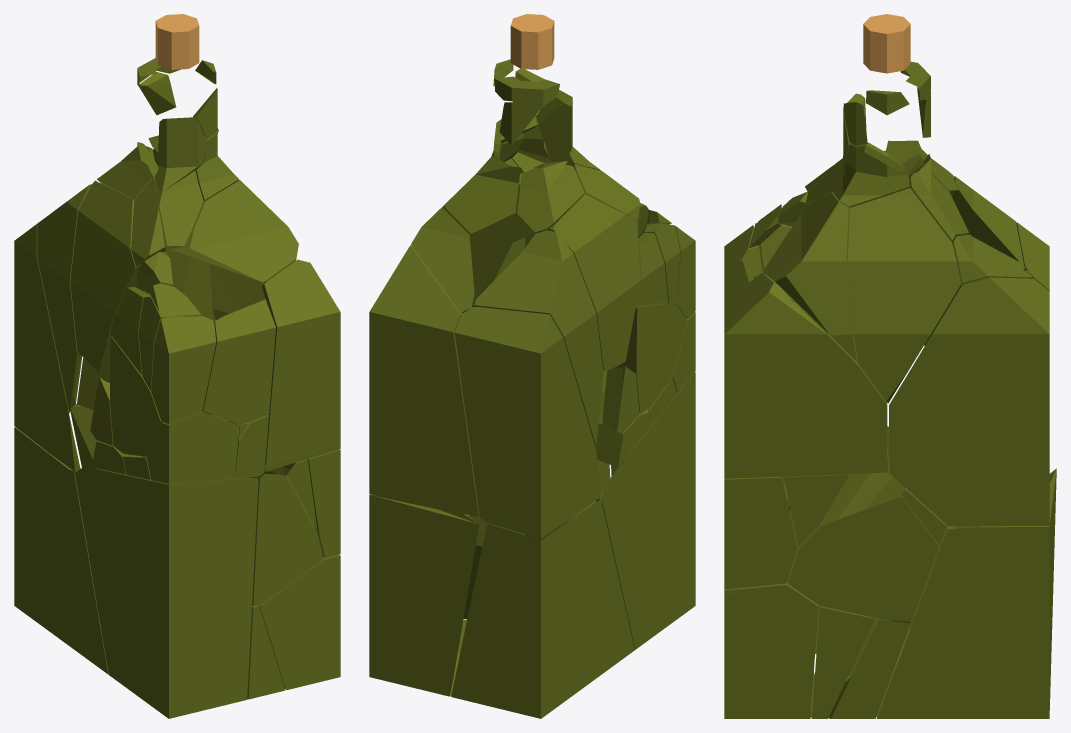
The model's file is bottle-whiskey-pieces.fbx.
The picture shows the model from 3 angles, left to right: view 1: azimuth 30°, elevation 25°; view 2: azimuth 150°, elevation 25°; view 3: azimuth 270°, elevation 25°; orthographic projection. The views are drawn at different scales.
Parts seen in each view (by area): view 1: whiskeybottle_cell.004, whiskeybottle_cell.006, whiskeybottle_cell.003, whiskeybottle_cell.007, whiskeybottle_cell.014, whiskeybottle_cell.002_cell, whiskeybottle_cell.017, whiskeybottle_cell.005_cell.014, whiskeybottle_cell.002_cell.014, whiskeybottle_cell.005_cell, whiskeybottle_cell.011, whiskeybottle_cell.005_cell.007 (+21 smaller); view 2: whiskeybottle_cell.006, whiskeybottle_cell.007, whiskeybottle_cell.001, whiskeybottle_cell, whiskeybottle_cell.004, whiskeybottle_cell.011, whiskeybottle_cell.014, whiskeybottle_cell.005_cell.020, whiskeybottle_cell.008, whiskeybottle_cell.030, whiskeybottle_cell.015, whiskeybottle_cell.021 (+14 smaller); view 3: whiskeybottle_cell.001, whiskeybottle_cell, whiskeybottle_cell.003, whiskeybottle_cell.021, whiskeybottle_cell.002_cell.021, whiskeybottle_cell.002_cell, whiskeybottle_cell.017, whiskeybottle_cell.002_cell.008, whiskeybottle_cell.002_cell.018, whiskeybottle_cell.002_cell.019, whiskeybottle_cell.018, whiskeybottle_cell.011 (+17 smaller).
Boxes of the visible parts, x1=… form: whiskeybottle_cell.004: x1=75, y1=466, x2=258, y2=718; whiskeybottle_cell.006: x1=14, y1=416, x2=108, y2=674; whiskeybottle_cell.003: x1=262, y1=259, x2=340, y2=471; whiskeybottle_cell.007: x1=14, y1=224, x2=82, y2=471; whiskeybottle_cell.014: x1=70, y1=180, x2=164, y2=371; whiskeybottle_cell.002_cell: x1=258, y1=554, x2=340, y2=690; whiskeybottle_cell.017: x1=172, y1=180, x2=298, y2=283; whiskeybottle_cell.005_cell.014: x1=202, y1=299, x2=275, y2=424; whiskeybottle_cell.002_cell.014: x1=248, y1=471, x2=323, y2=606; whiskeybottle_cell.005_cell: x1=151, y1=316, x2=216, y2=423; whiskeybottle_cell.011: x1=37, y1=183, x2=103, y2=413; whiskeybottle_cell.005_cell.007: x1=146, y1=411, x2=237, y2=483; whiskeybottle_cell.006: x1=451, y1=498, x2=634, y2=718; whiskeybottle_cell.007: x1=454, y1=307, x2=601, y2=538; whiskeybottle_cell.001: x1=369, y1=245, x2=479, y2=516; whiskeybottle_cell: x1=369, y1=494, x2=479, y2=696; whiskeybottle_cell.004: x1=601, y1=372, x2=695, y2=649; whiskeybottle_cell.011: x1=473, y1=230, x2=603, y2=445; whiskeybottle_cell.014: x1=546, y1=194, x2=640, y2=371; whiskeybottle_cell.005_cell.020: x1=617, y1=303, x2=687, y2=413; whiskeybottle_cell.008: x1=411, y1=207, x2=474, y2=313; whiskeybottle_cell.030: x1=442, y1=155, x2=522, y2=233; whiskeybottle_cell.015: x1=517, y1=161, x2=584, y2=232; whiskeybottle_cell.021: x1=468, y1=158, x2=523, y2=307; whiskeybottle_cell.001: x1=889, y1=277, x2=1049, y2=526; whiskeybottle_cell: x1=876, y1=468, x2=1056, y2=718; whiskeybottle_cell.003: x1=724, y1=273, x2=888, y2=478; whiskeybottle_cell.021: x1=847, y1=188, x2=961, y2=403; whiskeybottle_cell.002_cell.021: x1=788, y1=497, x2=938, y2=621; whiskeybottle_cell.002_cell: x1=724, y1=582, x2=818, y2=718; whiskeybottle_cell.017: x1=762, y1=191, x2=857, y2=361; whiskeybottle_cell.002_cell.008: x1=724, y1=476, x2=797, y2=589; whiskeybottle_cell.002_cell.018: x1=811, y1=618, x2=910, y2=718; whiskeybottle_cell.002_cell.019: x1=811, y1=606, x2=875, y2=718; whiskeybottle_cell.018: x1=831, y1=142, x2=909, y2=207; whiskeybottle_cell.011: x1=924, y1=176, x2=1023, y2=345.
Bounding box in the file's own units: 0.2944 × 1.01 × 0.469.
